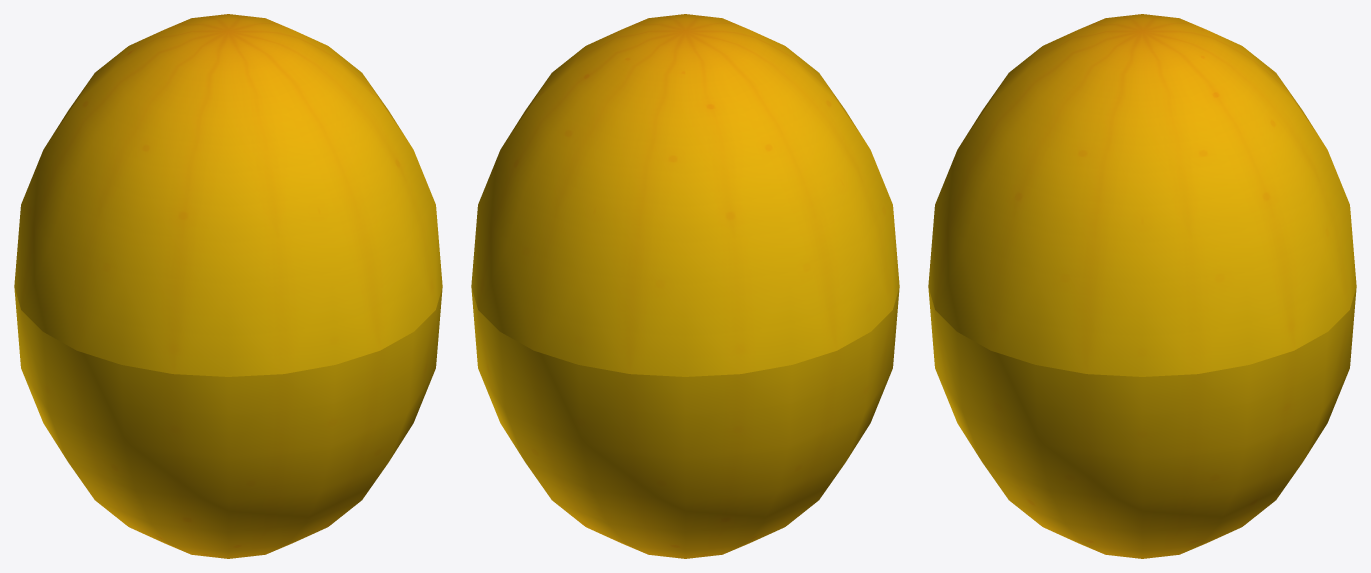
File: 哈密瓜.FBX
The picture shows the model from 3 angles, left to right: view 1: azimuth 30°, elevation 25°; view 2: azimuth 150°, elevation 25°; view 3: azimuth 270°, elevation 25°; orthographic projection.
Parts seen in each view (by area): view 1: HoneydewMelon_Half_Top001, HoneydewMelon_Half_Bottom001; view 2: HoneydewMelon_Half_Top001, HoneydewMelon_Half_Bottom001; view 3: HoneydewMelon_Half_Top001, HoneydewMelon_Half_Bottom001.
Boxes of the visible parts, x1,y1,x2,y2 form: HoneydewMelon_Half_Top001: (14, 14, 442, 376); HoneydewMelon_Half_Bottom001: (14, 287, 442, 558); HoneydewMelon_Half_Top001: (471, 14, 899, 376); HoneydewMelon_Half_Bottom001: (471, 287, 899, 558); HoneydewMelon_Half_Top001: (928, 14, 1356, 376); HoneydewMelon_Half_Bottom001: (928, 287, 1356, 558).
Bounding box in the file's own units: 20.86 × 27.42 × 20.86.
Materials: 2 (2 with a texture image).
